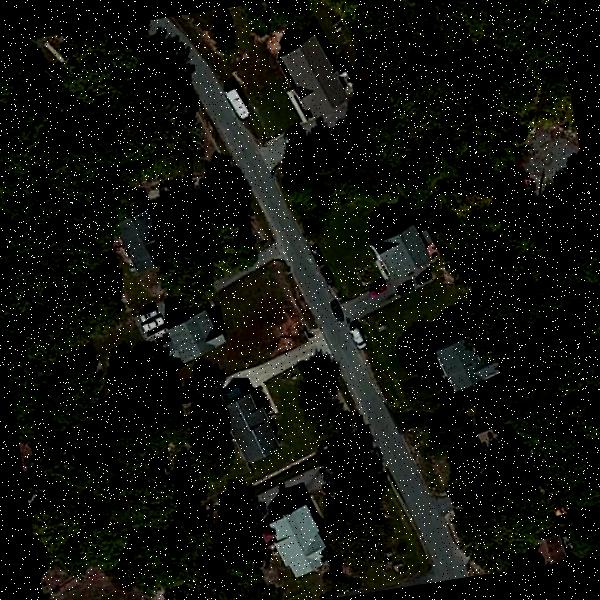Buildings: (283, 38, 362, 122), (116, 209, 175, 282), (433, 332, 490, 399), (226, 393, 282, 458), (274, 514, 329, 576), (376, 228, 433, 280), (167, 306, 218, 356)
